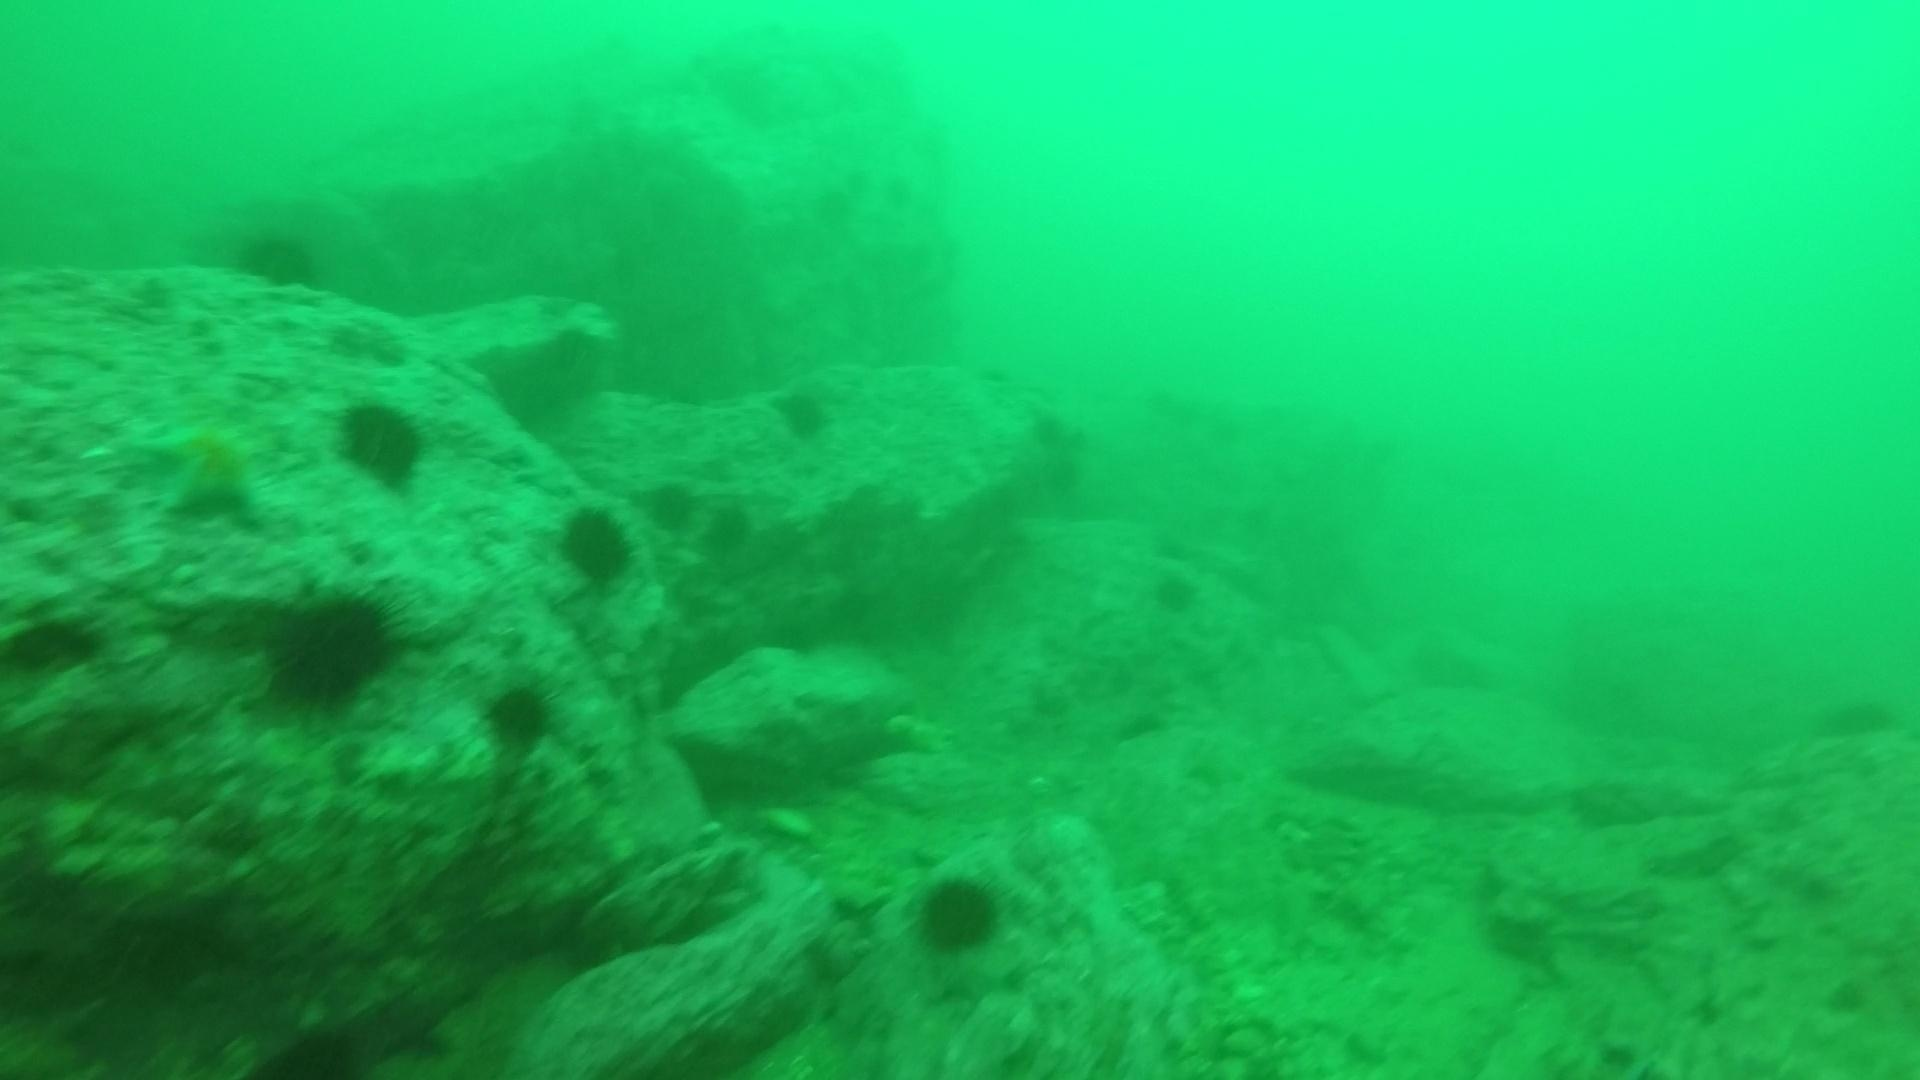echinus: (257, 582, 410, 715), (328, 392, 433, 495), (909, 866, 1009, 960), (549, 498, 641, 593), (473, 673, 564, 758), (231, 220, 328, 297), (767, 381, 837, 444), (636, 473, 703, 537), (1145, 564, 1205, 618)
starfish: (131, 407, 274, 526)
